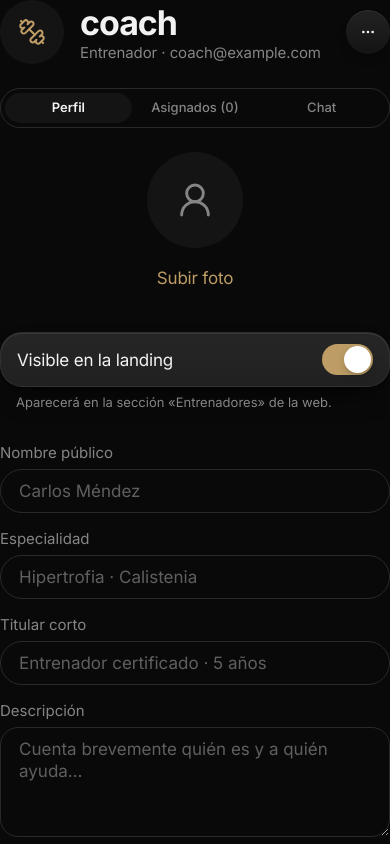
it: admin client detail › keeps a trainer's secondary actions in the more menu and confirms before removing the role
Expected: the button "Ver como" is not shown
Press Enter in the button named "Más acciones", box [346,10,389,54]
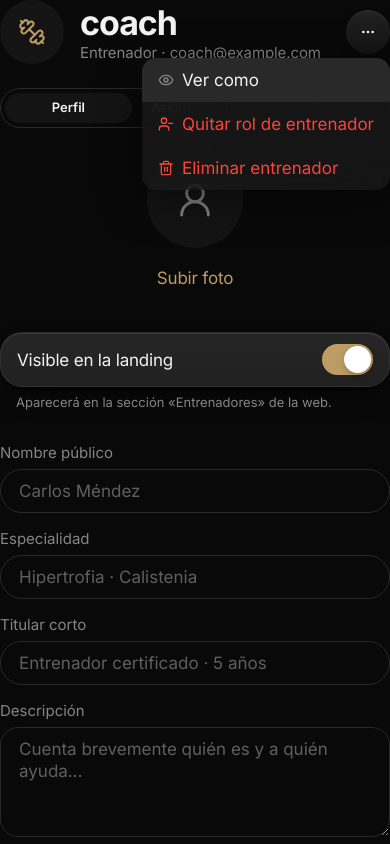
Now the menu item "Ver como" is shown, box [142,58,389,102]
Click the menu item "Quitar rol de entrenador" at (266, 124), box [158,114,374,134]
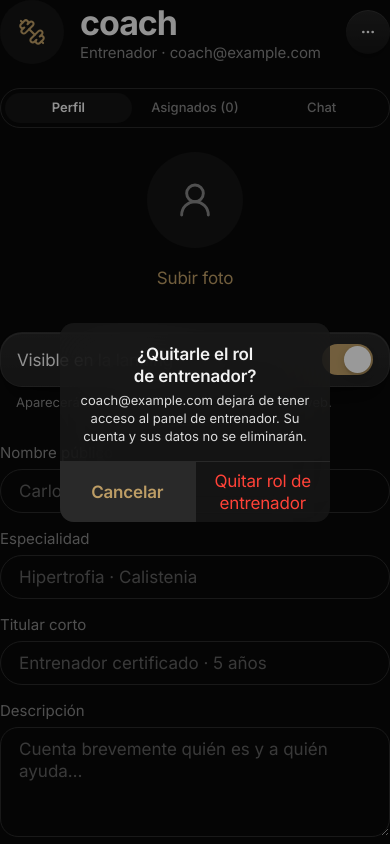
Now the heading "¿Quitarle el rol de entrenador?" is shown, box [134,344,256,386]
